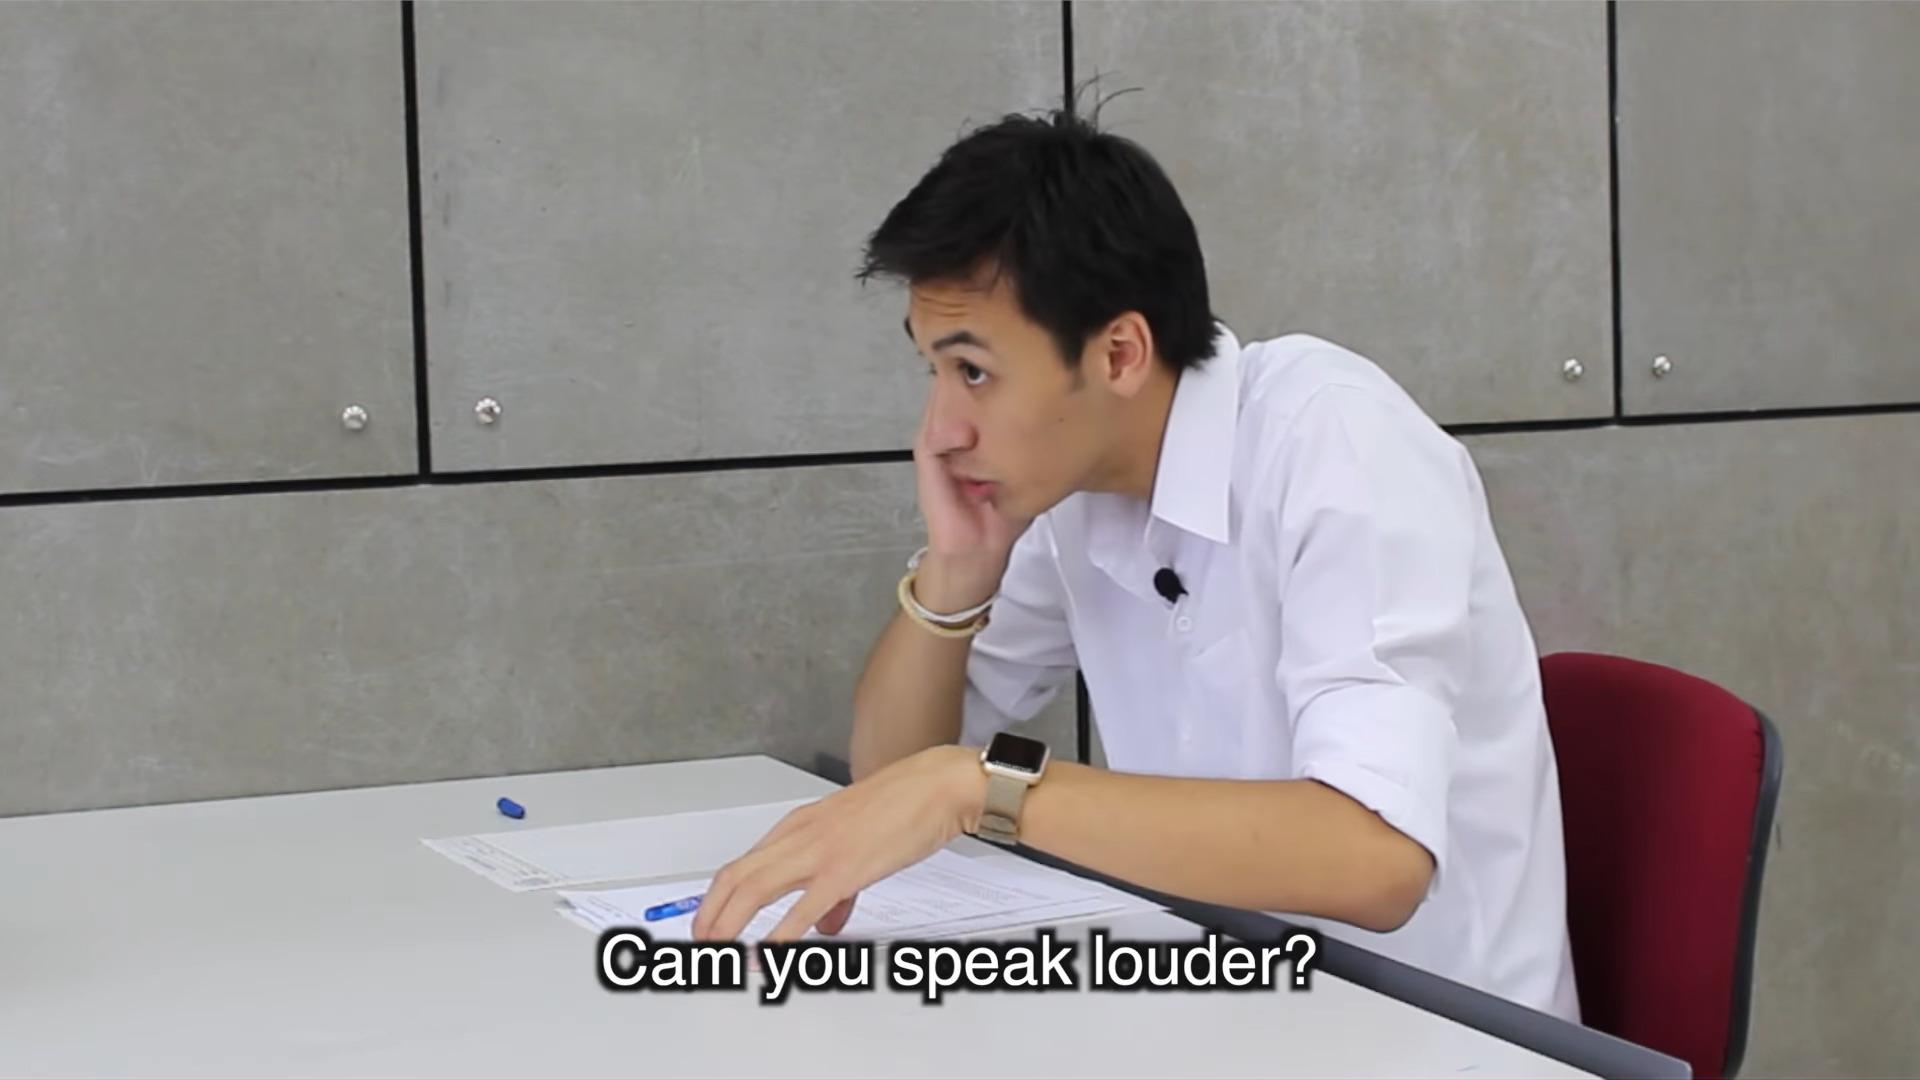cheating: (401, 91, 1607, 899)
